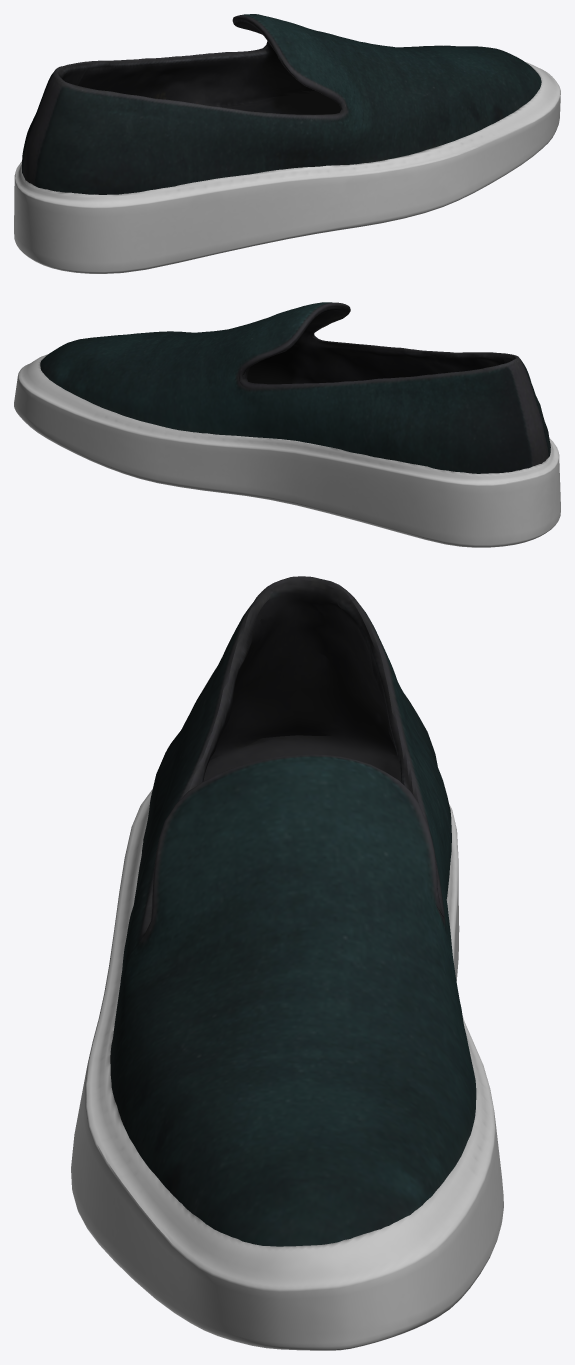
The model's file is Limitato.glb.
The picture shows the model from 3 angles, top to bottom: view 1: azimuth 30°, elevation 25°; view 2: azimuth 150°, elevation 25°; view 3: azimuth 270°, elevation 25°; orthographic projection. The views are drawn at different scales.
Parts seen in each view (by area): view 1: Buffer Layer; view 2: Buffer Layer; view 3: Buffer Layer.
Part boxes in pixels (x1=…): Buffer Layer: x1=14, y1=14, x2=560, y2=273; Buffer Layer: x1=14, y1=302, x2=560, y2=547; Buffer Layer: x1=71, y1=576, x2=503, y2=1350.
Bounding box in the file's own units: 0.1169 × 0.037 × 0.042.
Materials: 1 (1 with a texture image).
